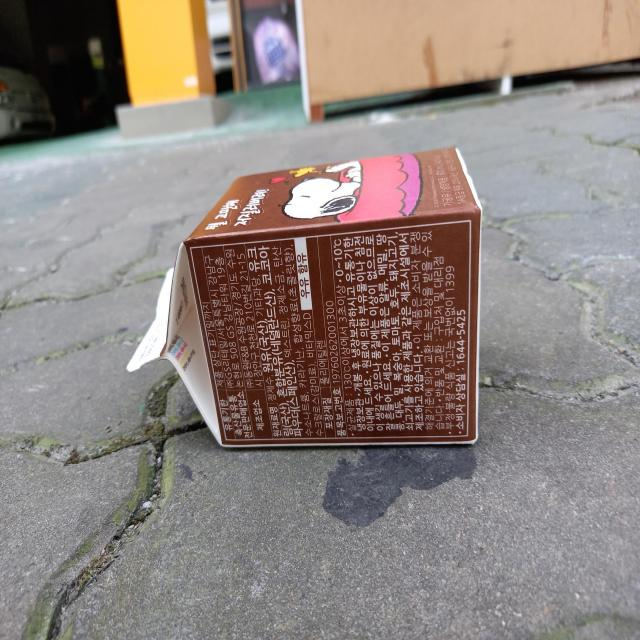paperpack: (126, 147, 483, 447)
